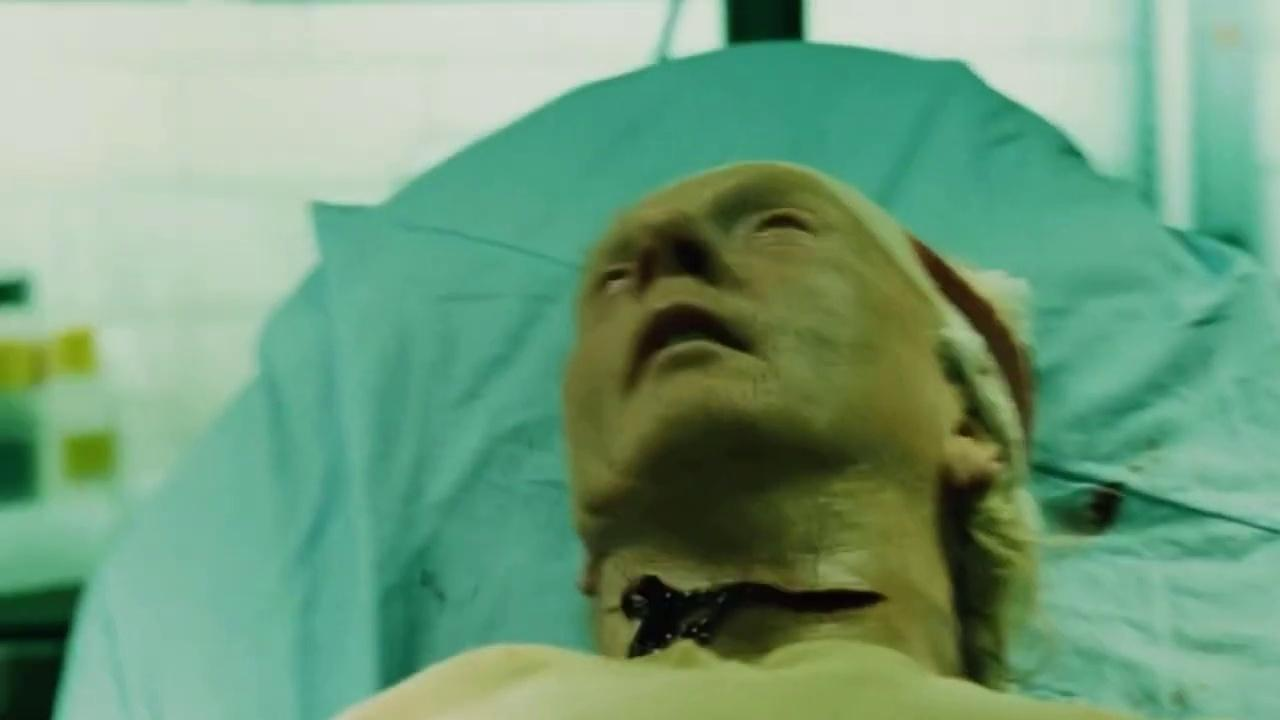Fire: (622, 575, 887, 658)
